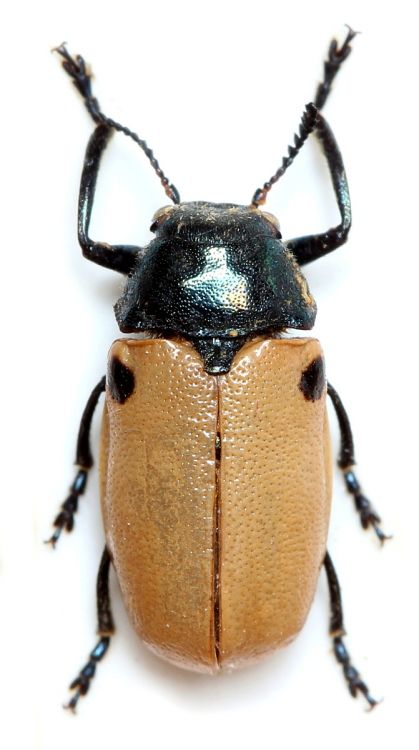Labidostomis_propinqua: (32, 15, 394, 717)
